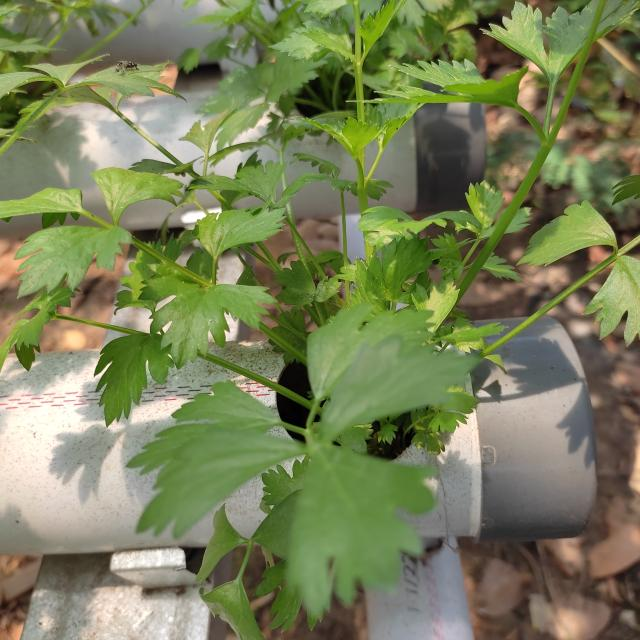Wet Waste: (30, 66, 630, 578)
